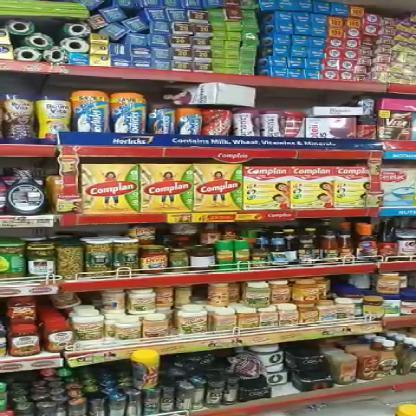Complan Pista Badam: (80, 164, 138, 212), (142, 164, 192, 212), (193, 164, 242, 212), (244, 167, 290, 209), (293, 167, 335, 209), (336, 166, 374, 208)
